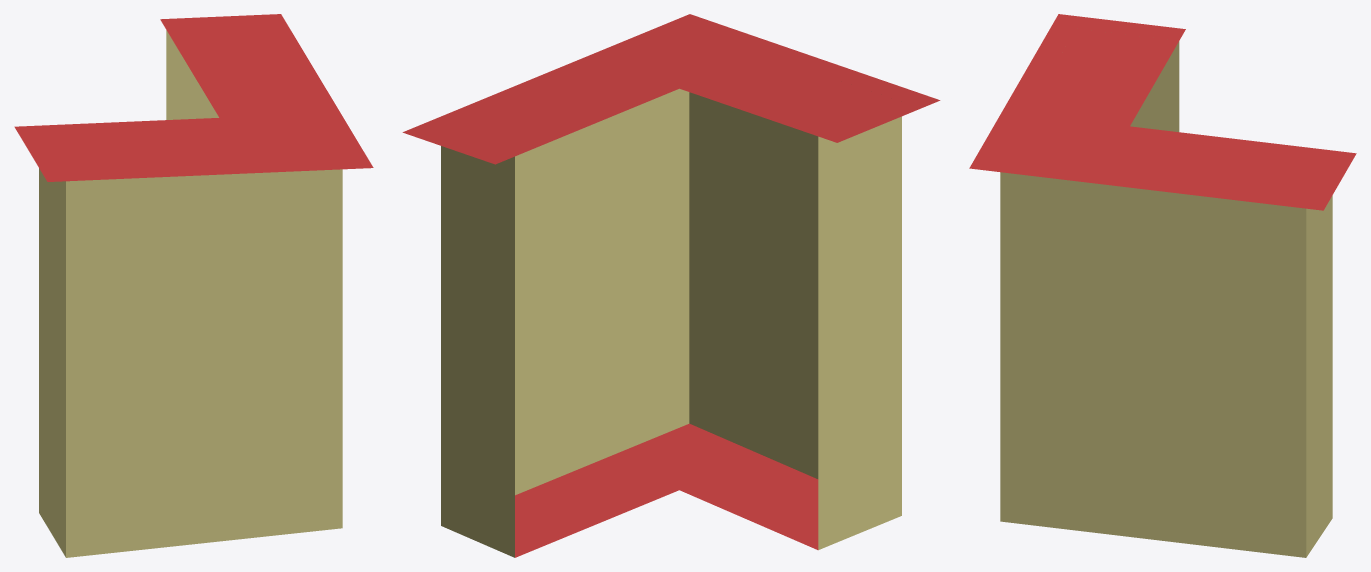
The picture shows the model from 3 angles, left to right: view 1: azimuth 30°, elevation 25°; view 2: azimuth 150°, elevation 25°; view 3: azimuth 270°, elevation 25°; orthographic projection. The views are drawn at different scales.
Size of the model in its own units: 8.29 by 7.71 by 8.36.
